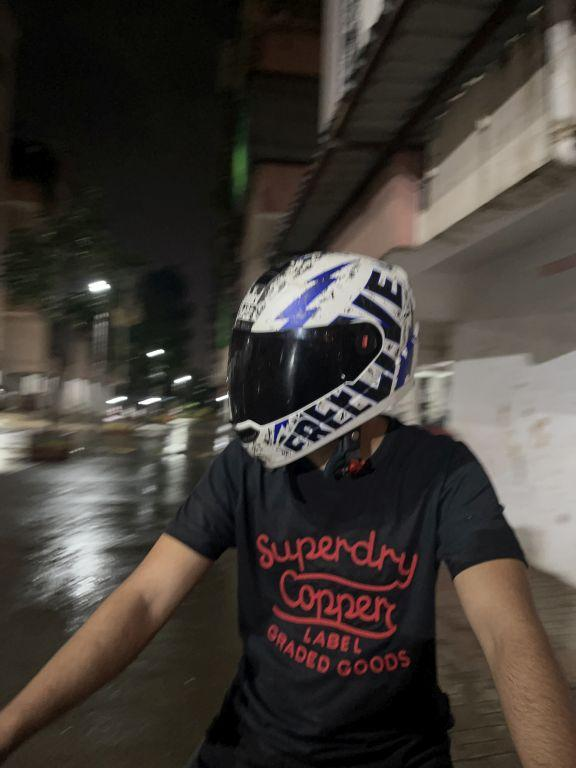helmet: (215, 240, 425, 485)
